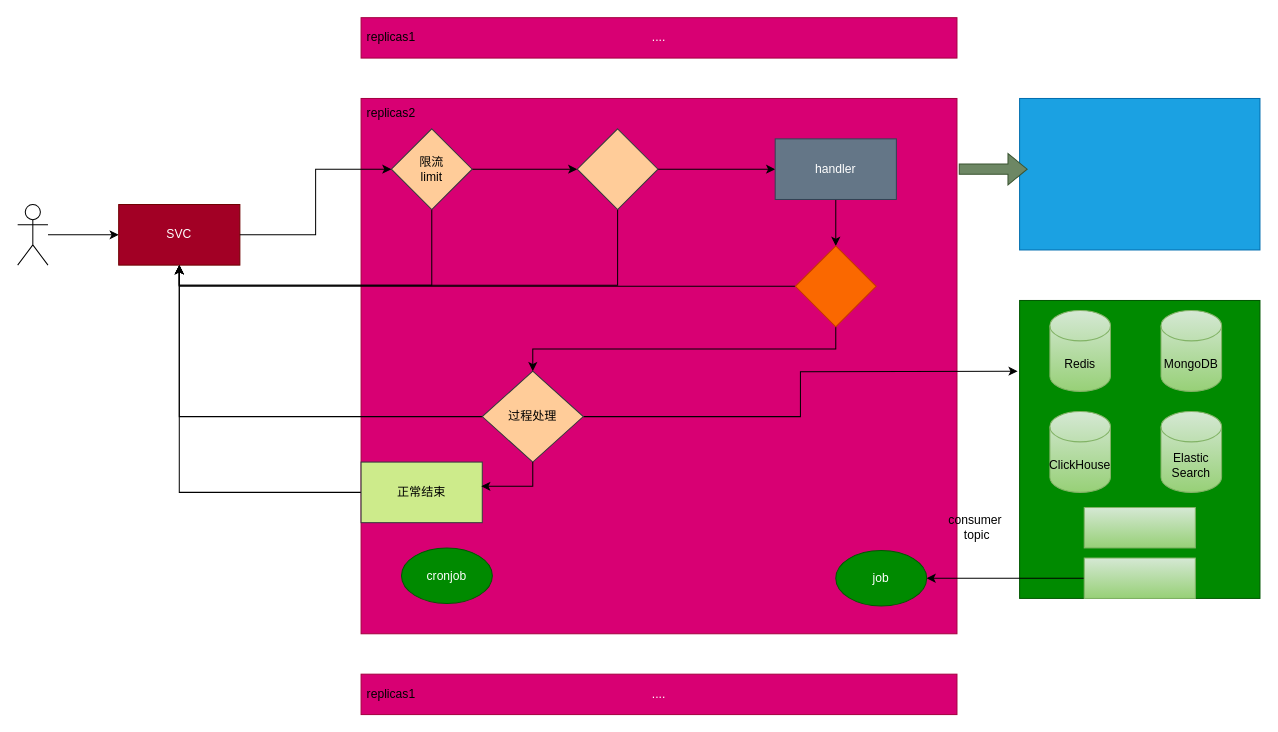
This 1278x732 diagram has some shape labels left out. The box of each missing label's shape, as (x1, y1, x2, y2) in pixels:
Actor: (17, 204, 48, 265)
MQ: (1083, 557, 1195, 598)
observable log、trace、metric: (1019, 97, 1260, 250)
RPC 服务: (1083, 507, 1195, 548)
参数校验: (794, 245, 876, 327)
鉴权 auth: (576, 128, 658, 210)
